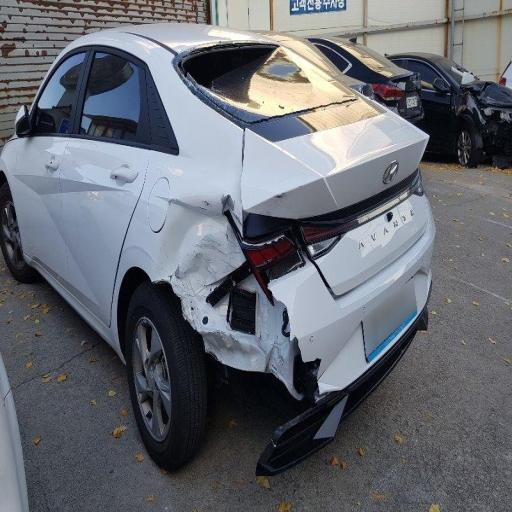broken: (134, 138, 338, 444)
